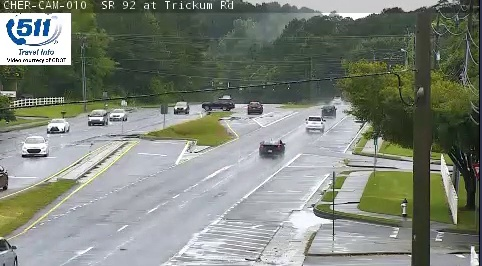car: (260, 139, 284, 157), (306, 116, 324, 131), (321, 105, 336, 117)
